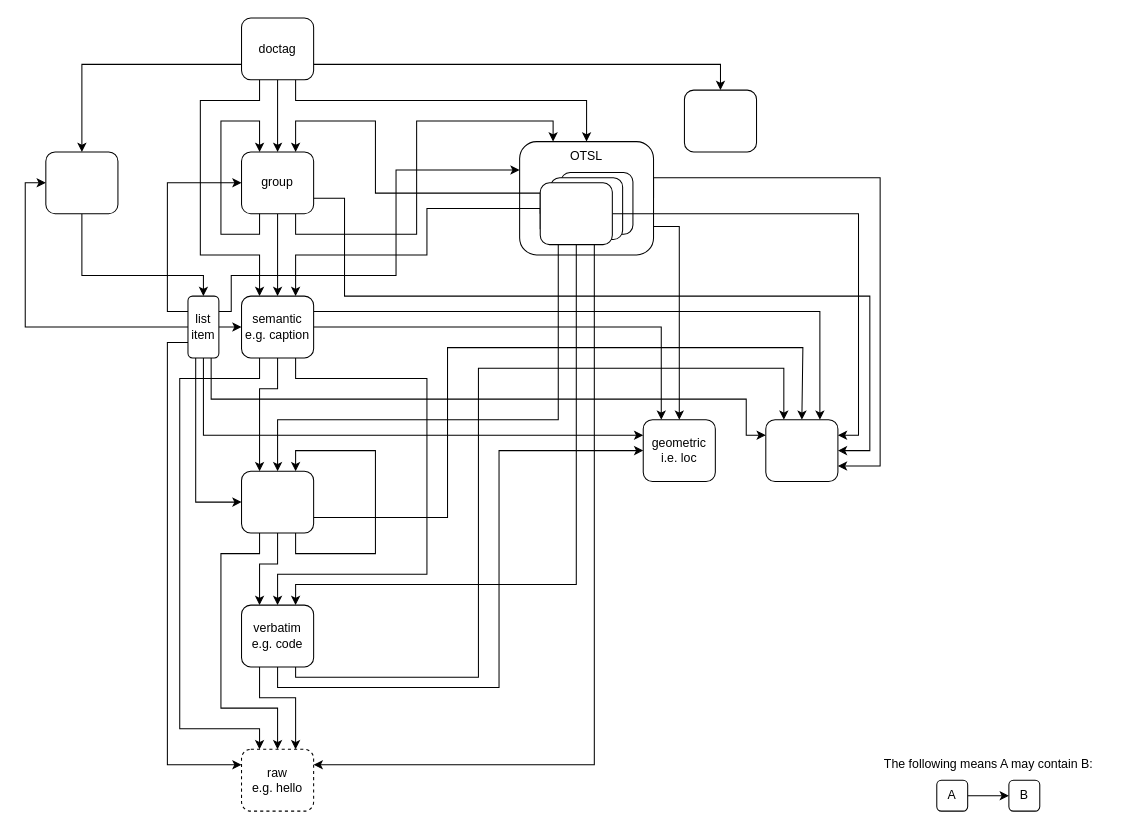
The diagram is 1125 pixels wide and 829 high, and some of its shapes have lost their labels. Here are the shapes that lost their labels. From the top down, the box of each, then its label:
(683, 89, 757, 152): page_break
(45, 151, 118, 214): list
(539, 182, 612, 245): table cell
(765, 419, 838, 482): continuation e.g. thread
(241, 470, 314, 533): formatting e.g. italic
